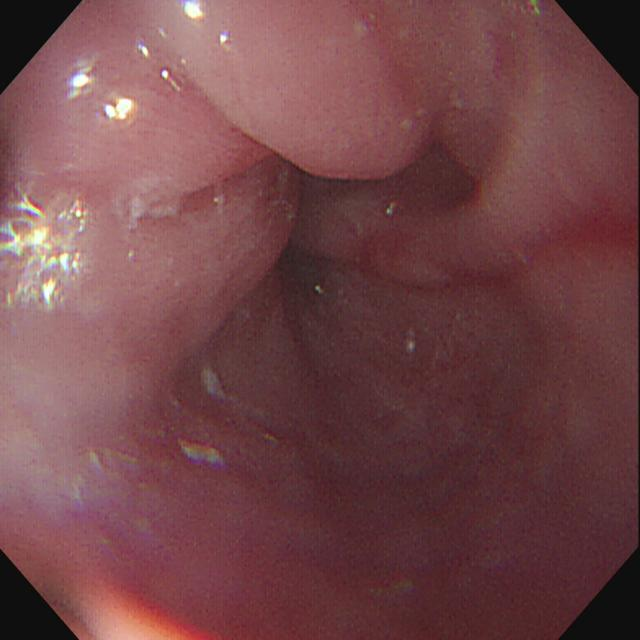J: (544, 203, 640, 258), (130, 172, 181, 233), (201, 366, 228, 402)
U: (2, 186, 90, 305), (71, 58, 95, 100), (102, 98, 136, 123), (186, 2, 204, 21)
